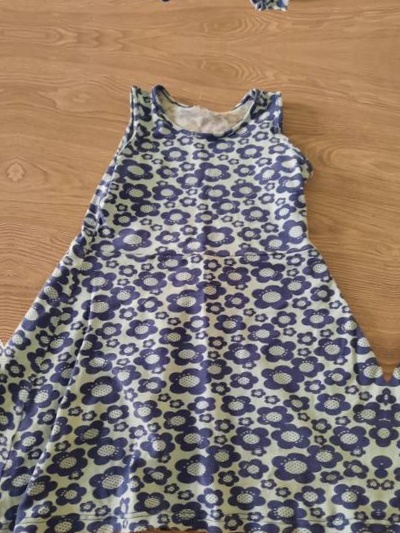Dress: (0, 64, 400, 533), (0, 39, 22, 533), (26, 0, 400, 28), (379, 90, 400, 533), (0, 0, 58, 3)
